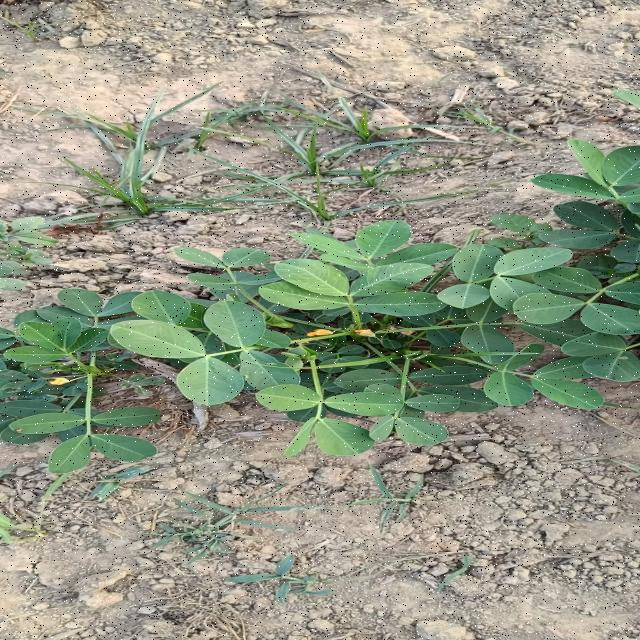plant: (0, 139, 640, 473)
